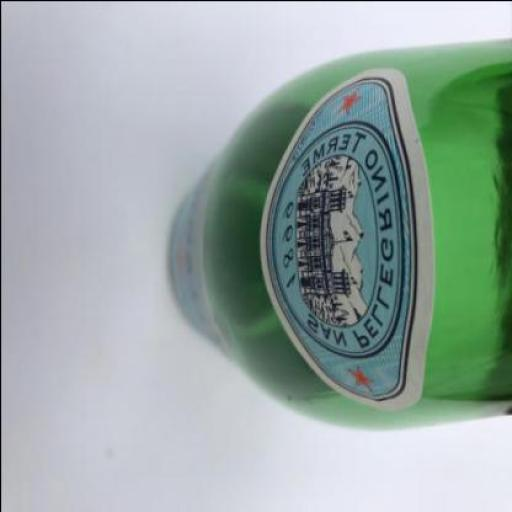glass: (167, 36, 511, 428)
